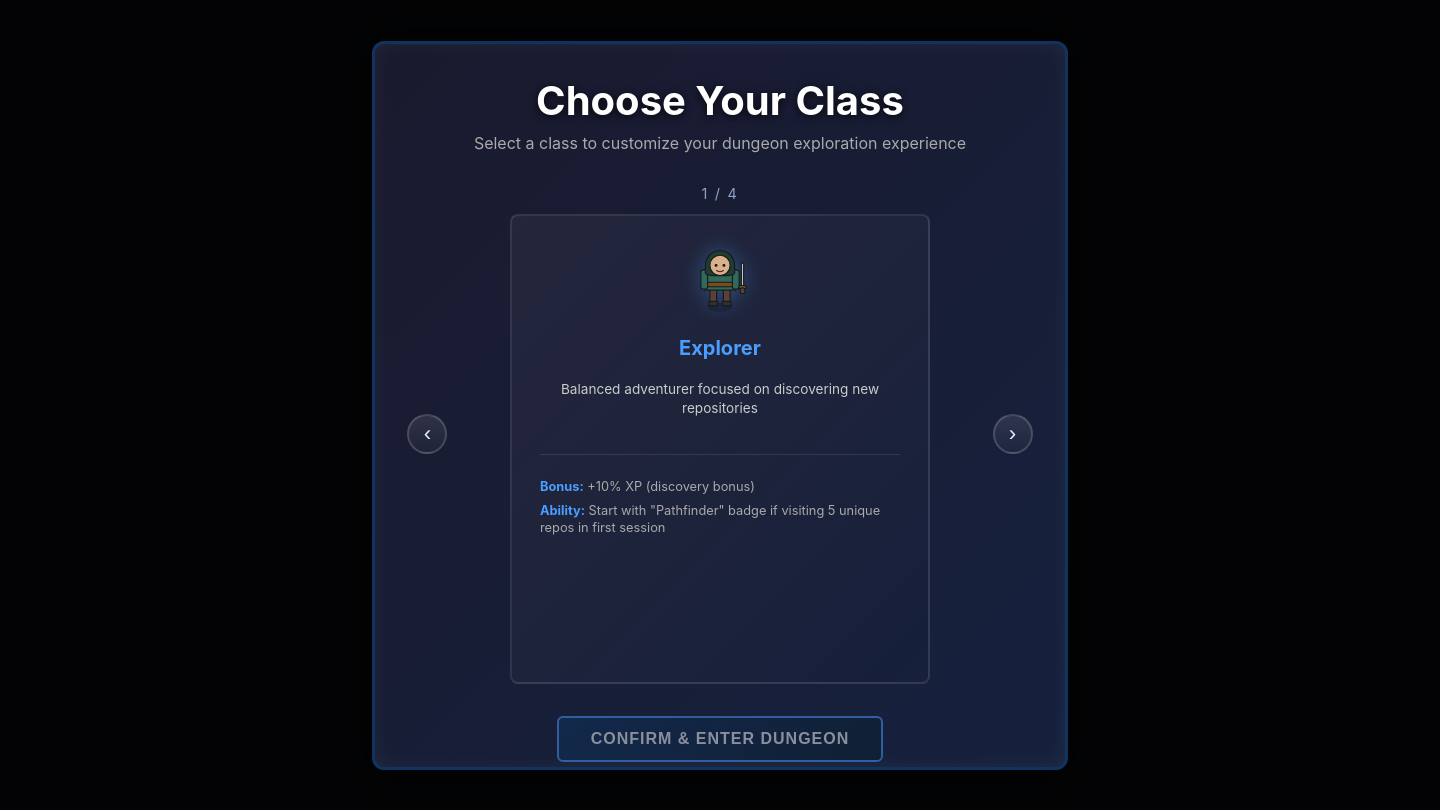
Test: CharacterSelect › should enable confirm button when a class is selected
What coordinates should you click on to do the following:
click the button with aria-label "Choose Explorer class"
I would click on:
 (720, 448)
Its box is left=510, top=214, right=930, bottom=684.
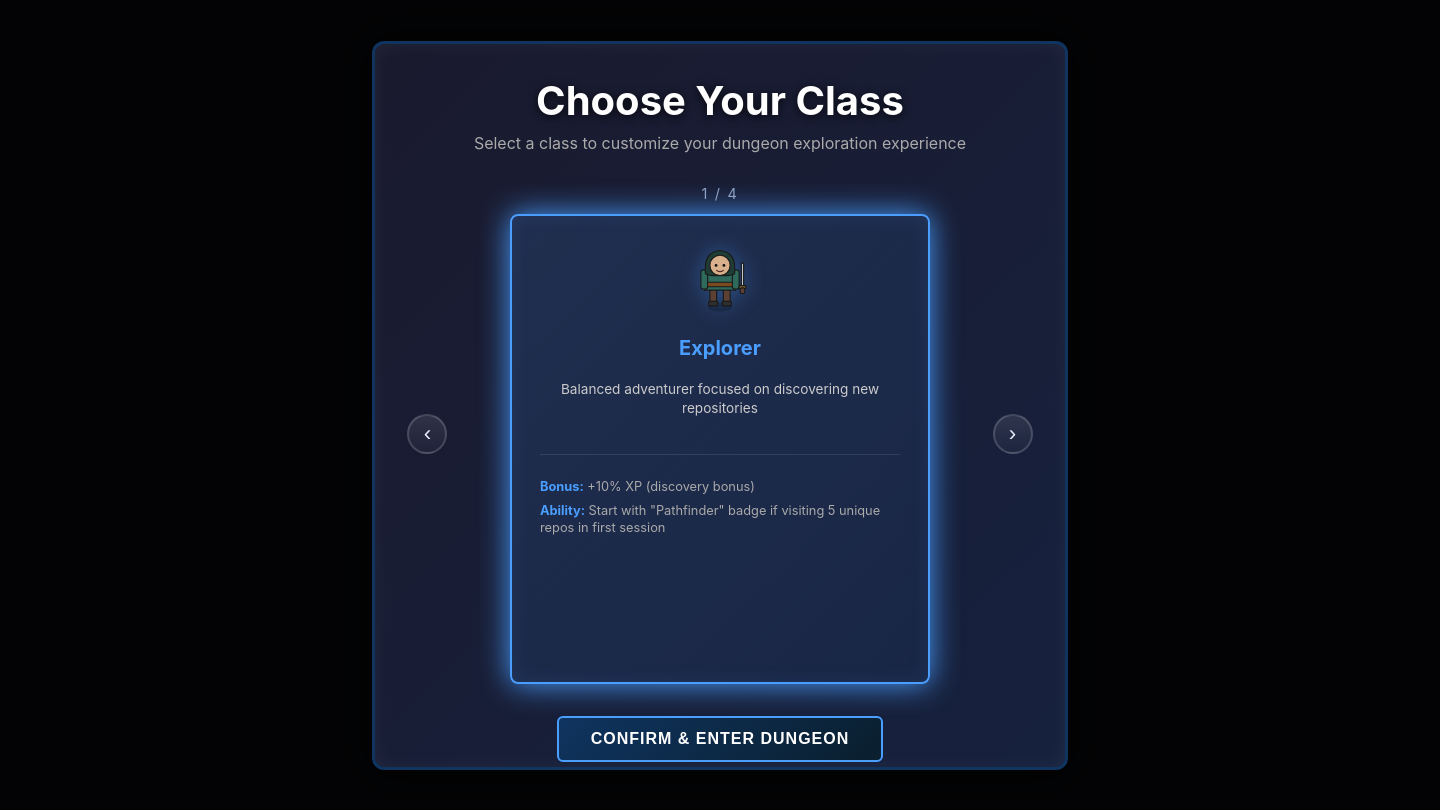
Expected: the button "Confirm & Enter Dungeon" is enabled, left=557, top=716, right=883, bottom=762
